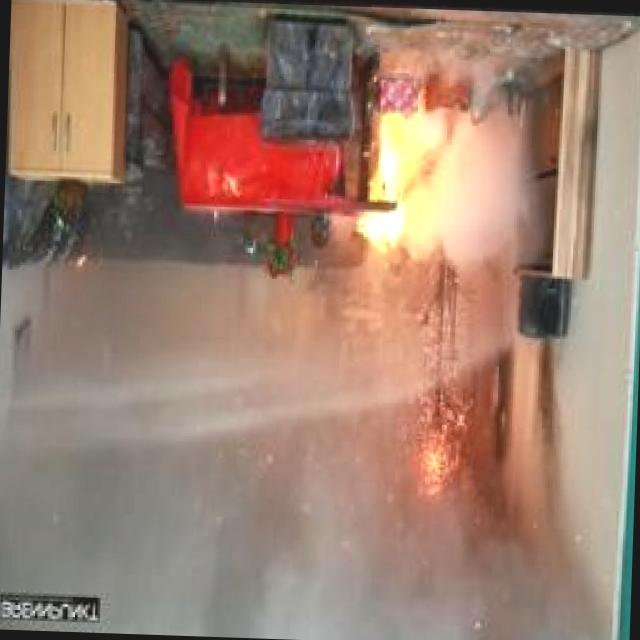fire: (342, 128, 419, 266)
smoke: (426, 79, 552, 283)
